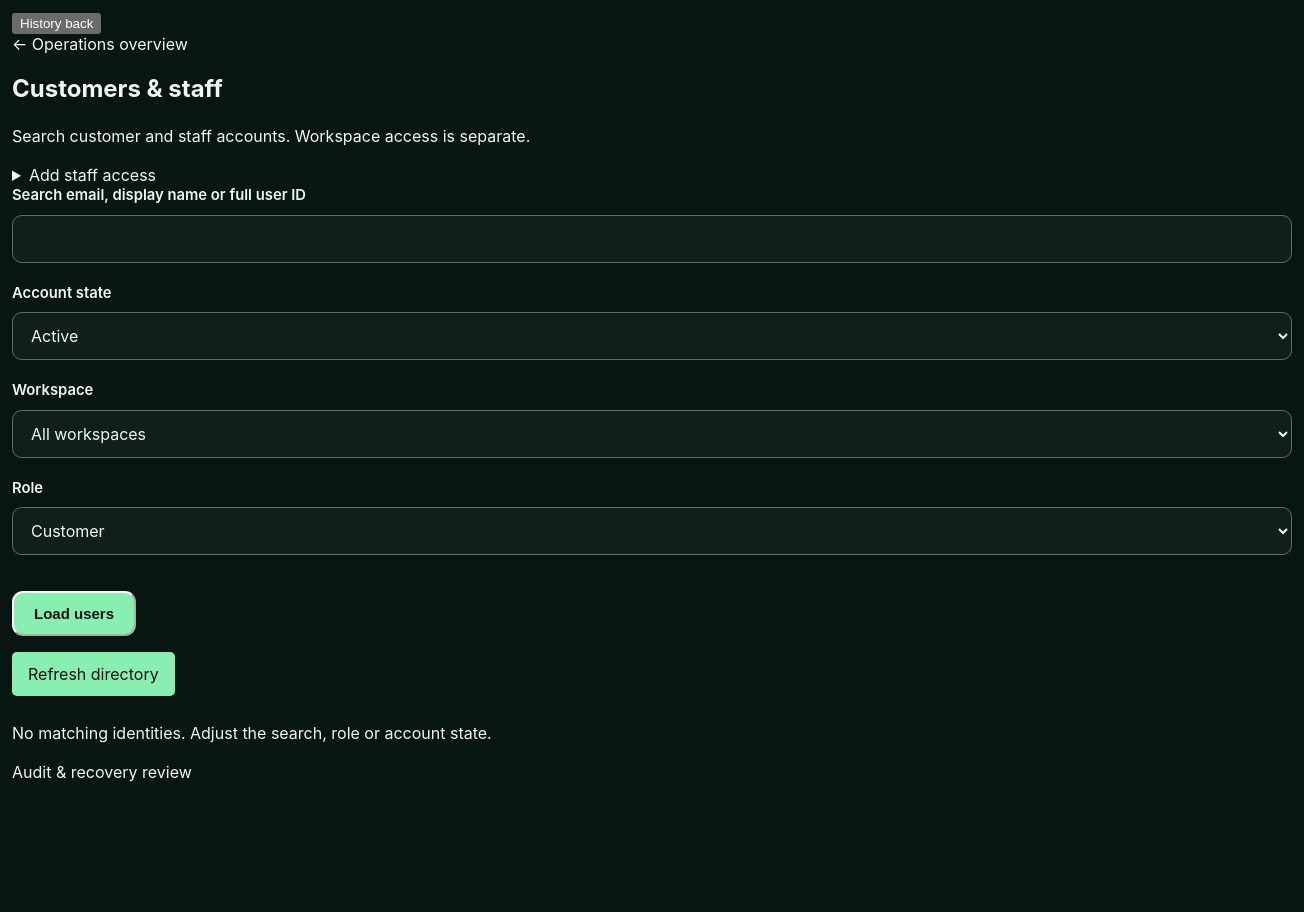
Test: removes stale results after a failed directory read and keeps refresh available
The image size is (1304, 912).
Expected: the text "No matching identities. Adjust the search, role or account state." is shown, x1=12 y1=723 x2=492 y2=743
What coordinates should you click on to do the following:
click the button "Refresh directory"
I would click on:
 (93, 674)
Its box is x1=12 y1=652 x2=175 y2=696.
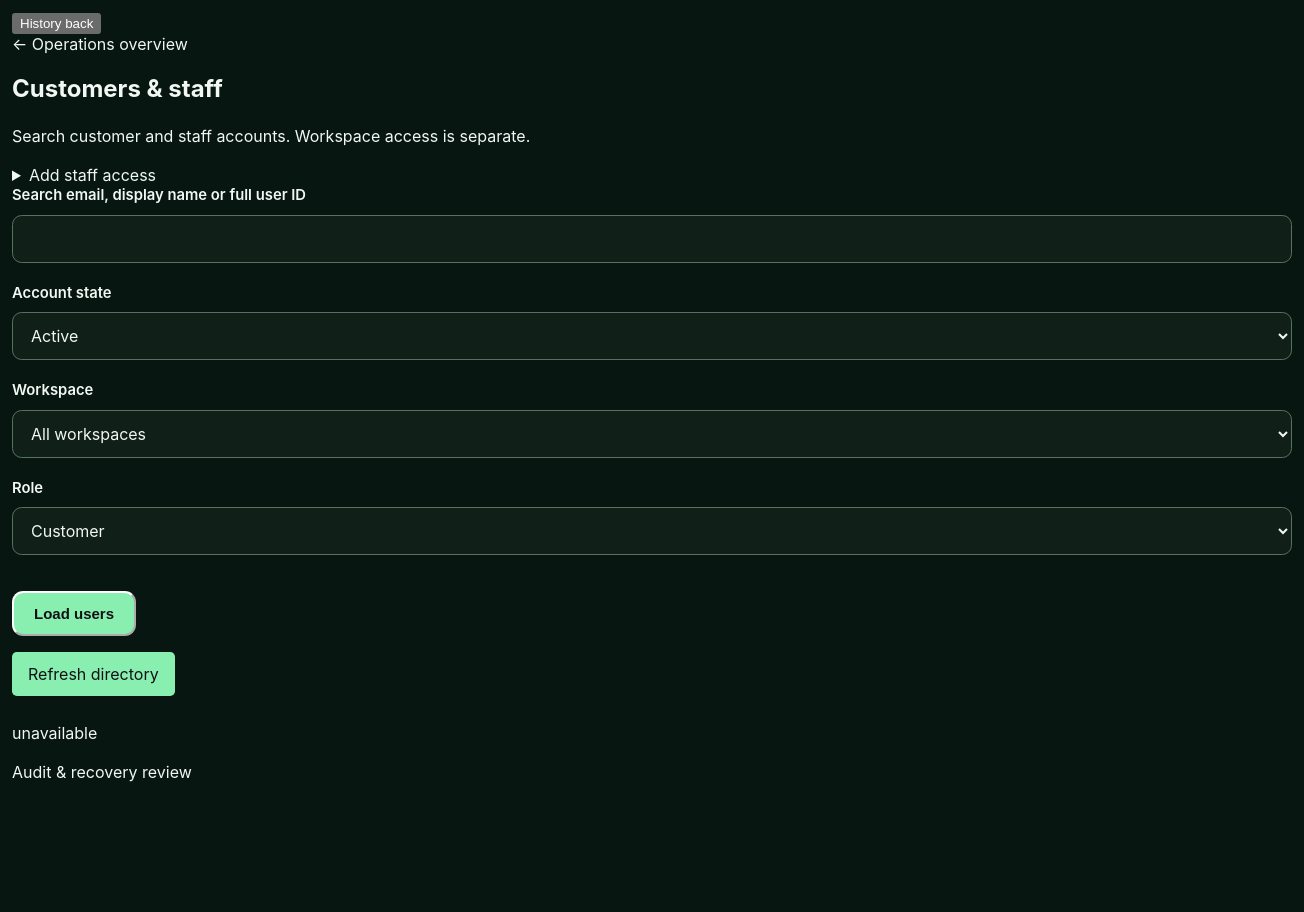
Now the text "No matching identities" is gone
